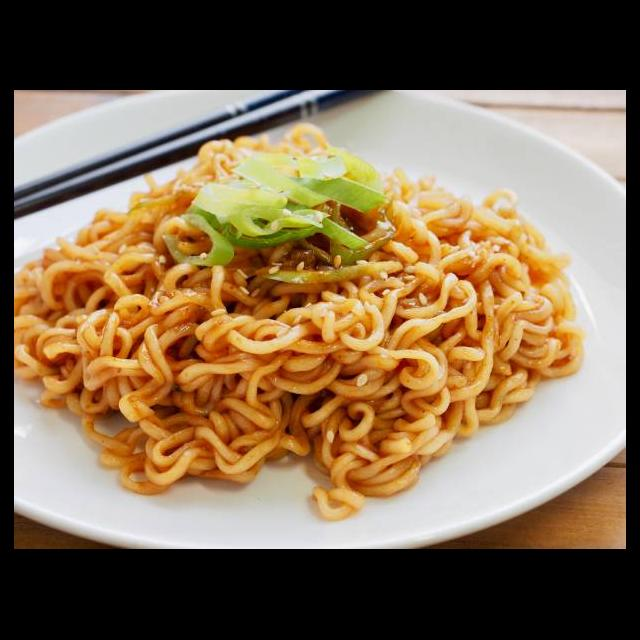noodles: (14, 122, 584, 520)
